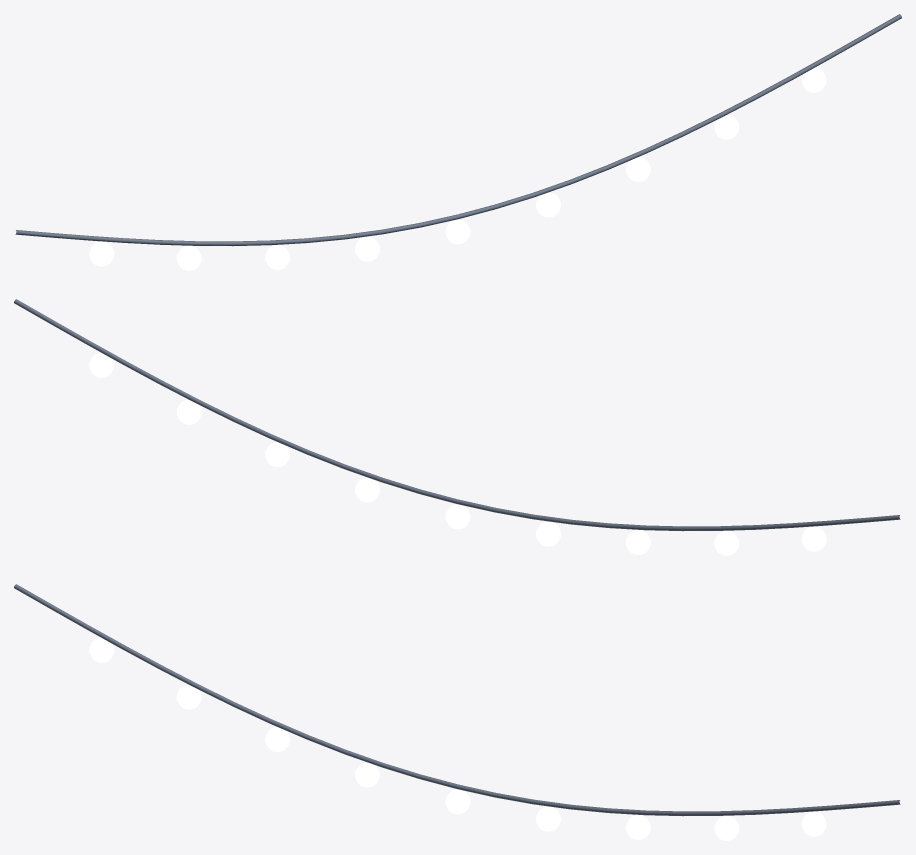
Rendered from ch5_prop_decor_string_lights.glb.
3 views of the same model, one above another, from view 1: azimuth 30°, elevation 25°; view 2: azimuth 150°, elevation 25°; view 3: azimuth 330°, elevation 25° (orthographic).
Visible parts, largest first — view 1: ch5_prop_decor_string_lights; view 2: ch5_prop_decor_string_lights; view 3: ch5_prop_decor_string_lights.
Boxes of the visible parts, x1,y1,x2,y2 form: ch5_prop_decor_string_lights: [15, 14, 901, 270]; ch5_prop_decor_string_lights: [14, 299, 900, 555]; ch5_prop_decor_string_lights: [14, 584, 900, 840].
Size of the model in its own units: 3.4 by 0.4436 by 0.084.
